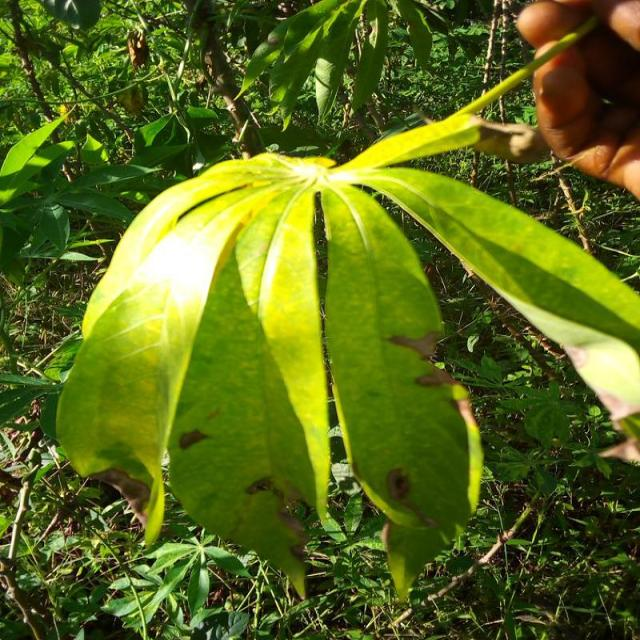cassava leaf: (51, 42, 638, 602)
